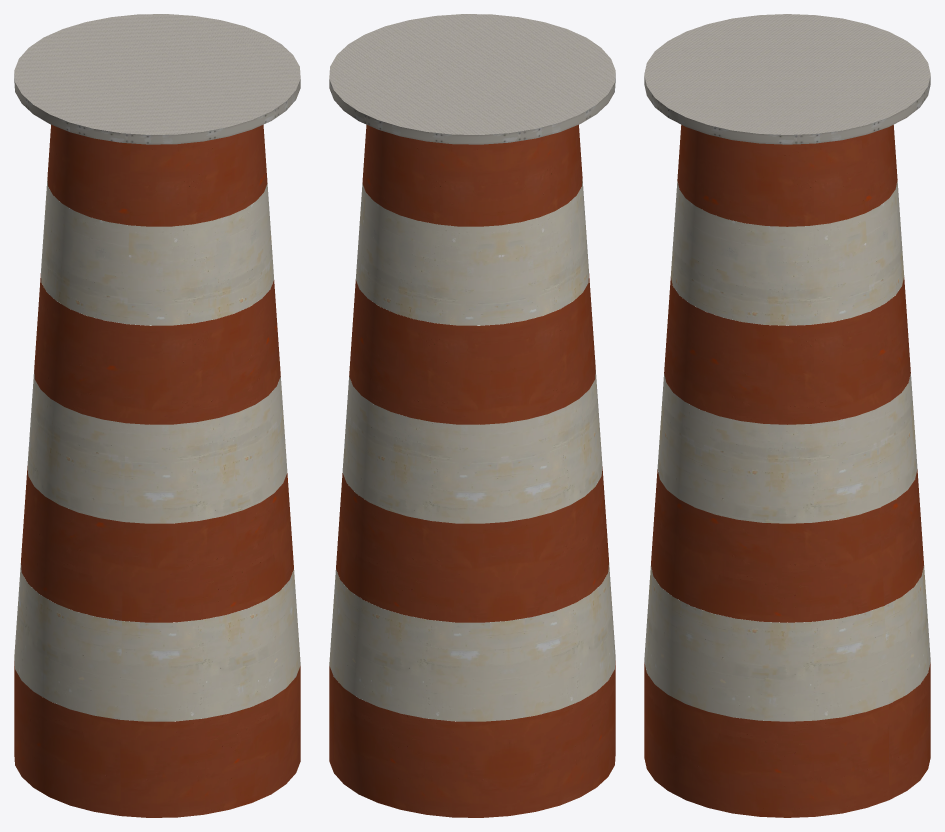
3 views of the same model, side by side, from view 1: azimuth 30°, elevation 25°; view 2: azimuth 150°, elevation 25°; view 3: azimuth 270°, elevation 25° (orthographic).
Parts seen in each view (by area): view 1: body0_model0_lod0_mesh1, body0_model0_lod0_mesh4, body0_model0_lod0_mesh2, body0_model0_lod0_mesh3; view 2: body0_model0_lod0_mesh1, body0_model0_lod0_mesh4, body0_model0_lod0_mesh2, body0_model0_lod0_mesh3; view 3: body0_model0_lod0_mesh1, body0_model0_lod0_mesh4, body0_model0_lod0_mesh2, body0_model0_lod0_mesh3.
Boxes of the visible parts, box(x1,y1,x2,y2) form: body0_model0_lod0_mesh1: box(14, 124, 300, 817); body0_model0_lod0_mesh4: box(14, 178, 300, 721); body0_model0_lod0_mesh2: box(14, 14, 300, 134); body0_model0_lod0_mesh3: box(14, 74, 300, 144); body0_model0_lod0_mesh1: box(329, 124, 615, 817); body0_model0_lod0_mesh4: box(329, 178, 615, 721); body0_model0_lod0_mesh2: box(329, 14, 615, 134); body0_model0_lod0_mesh3: box(329, 73, 615, 144); body0_model0_lod0_mesh1: box(644, 125, 930, 817); body0_model0_lod0_mesh4: box(644, 181, 930, 721); body0_model0_lod0_mesh2: box(644, 14, 930, 134); body0_model0_lod0_mesh3: box(644, 76, 930, 144).
Size of the model in its own units: 27 by 71 by 27.
Materials: 5 (5 with a texture image).
